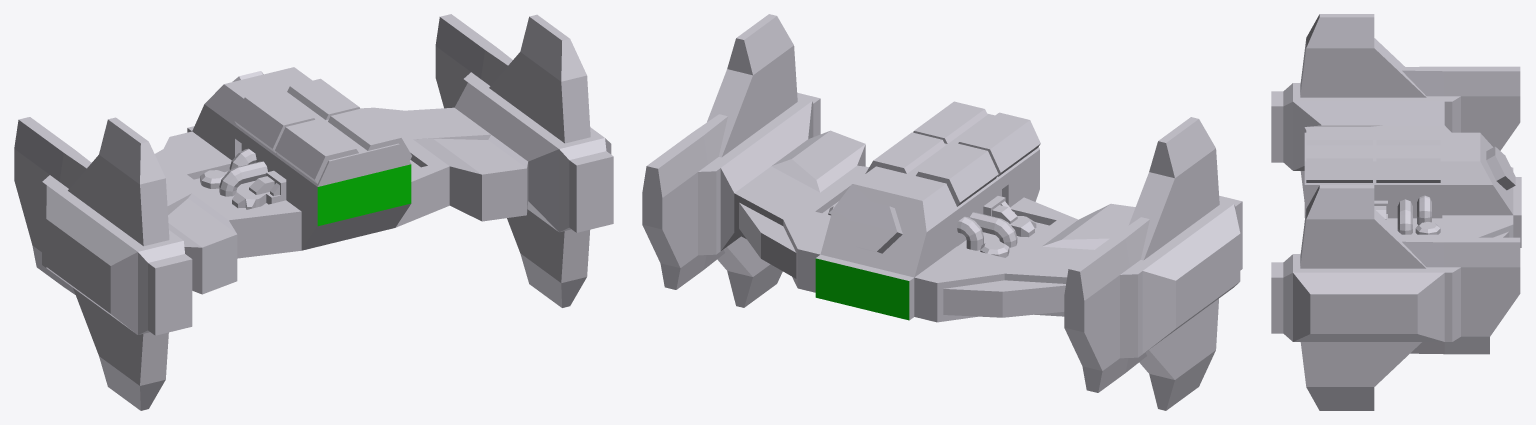
File: Fin Wing.fbx
3 views of the same model, side by side, from view 1: azimuth 30°, elevation 25°; view 2: azimuth 150°, elevation 25°; view 3: azimuth 270°, elevation 25° (orthographic). The views are drawn at different scales.
Visible parts, largest first — view 1: Fin Wing; view 2: Fin Wing; view 3: Fin Wing.
Part boxes in pixels (left/top/right/bottom): Fin Wing: left=14, top=14, right=613, bottom=410; Fin Wing: left=642, top=14, right=1242, bottom=410; Fin Wing: left=1271, top=14, right=1521, bottom=410.
Size of the model in its own units: 8.9 by 4.54 by 4.63.
